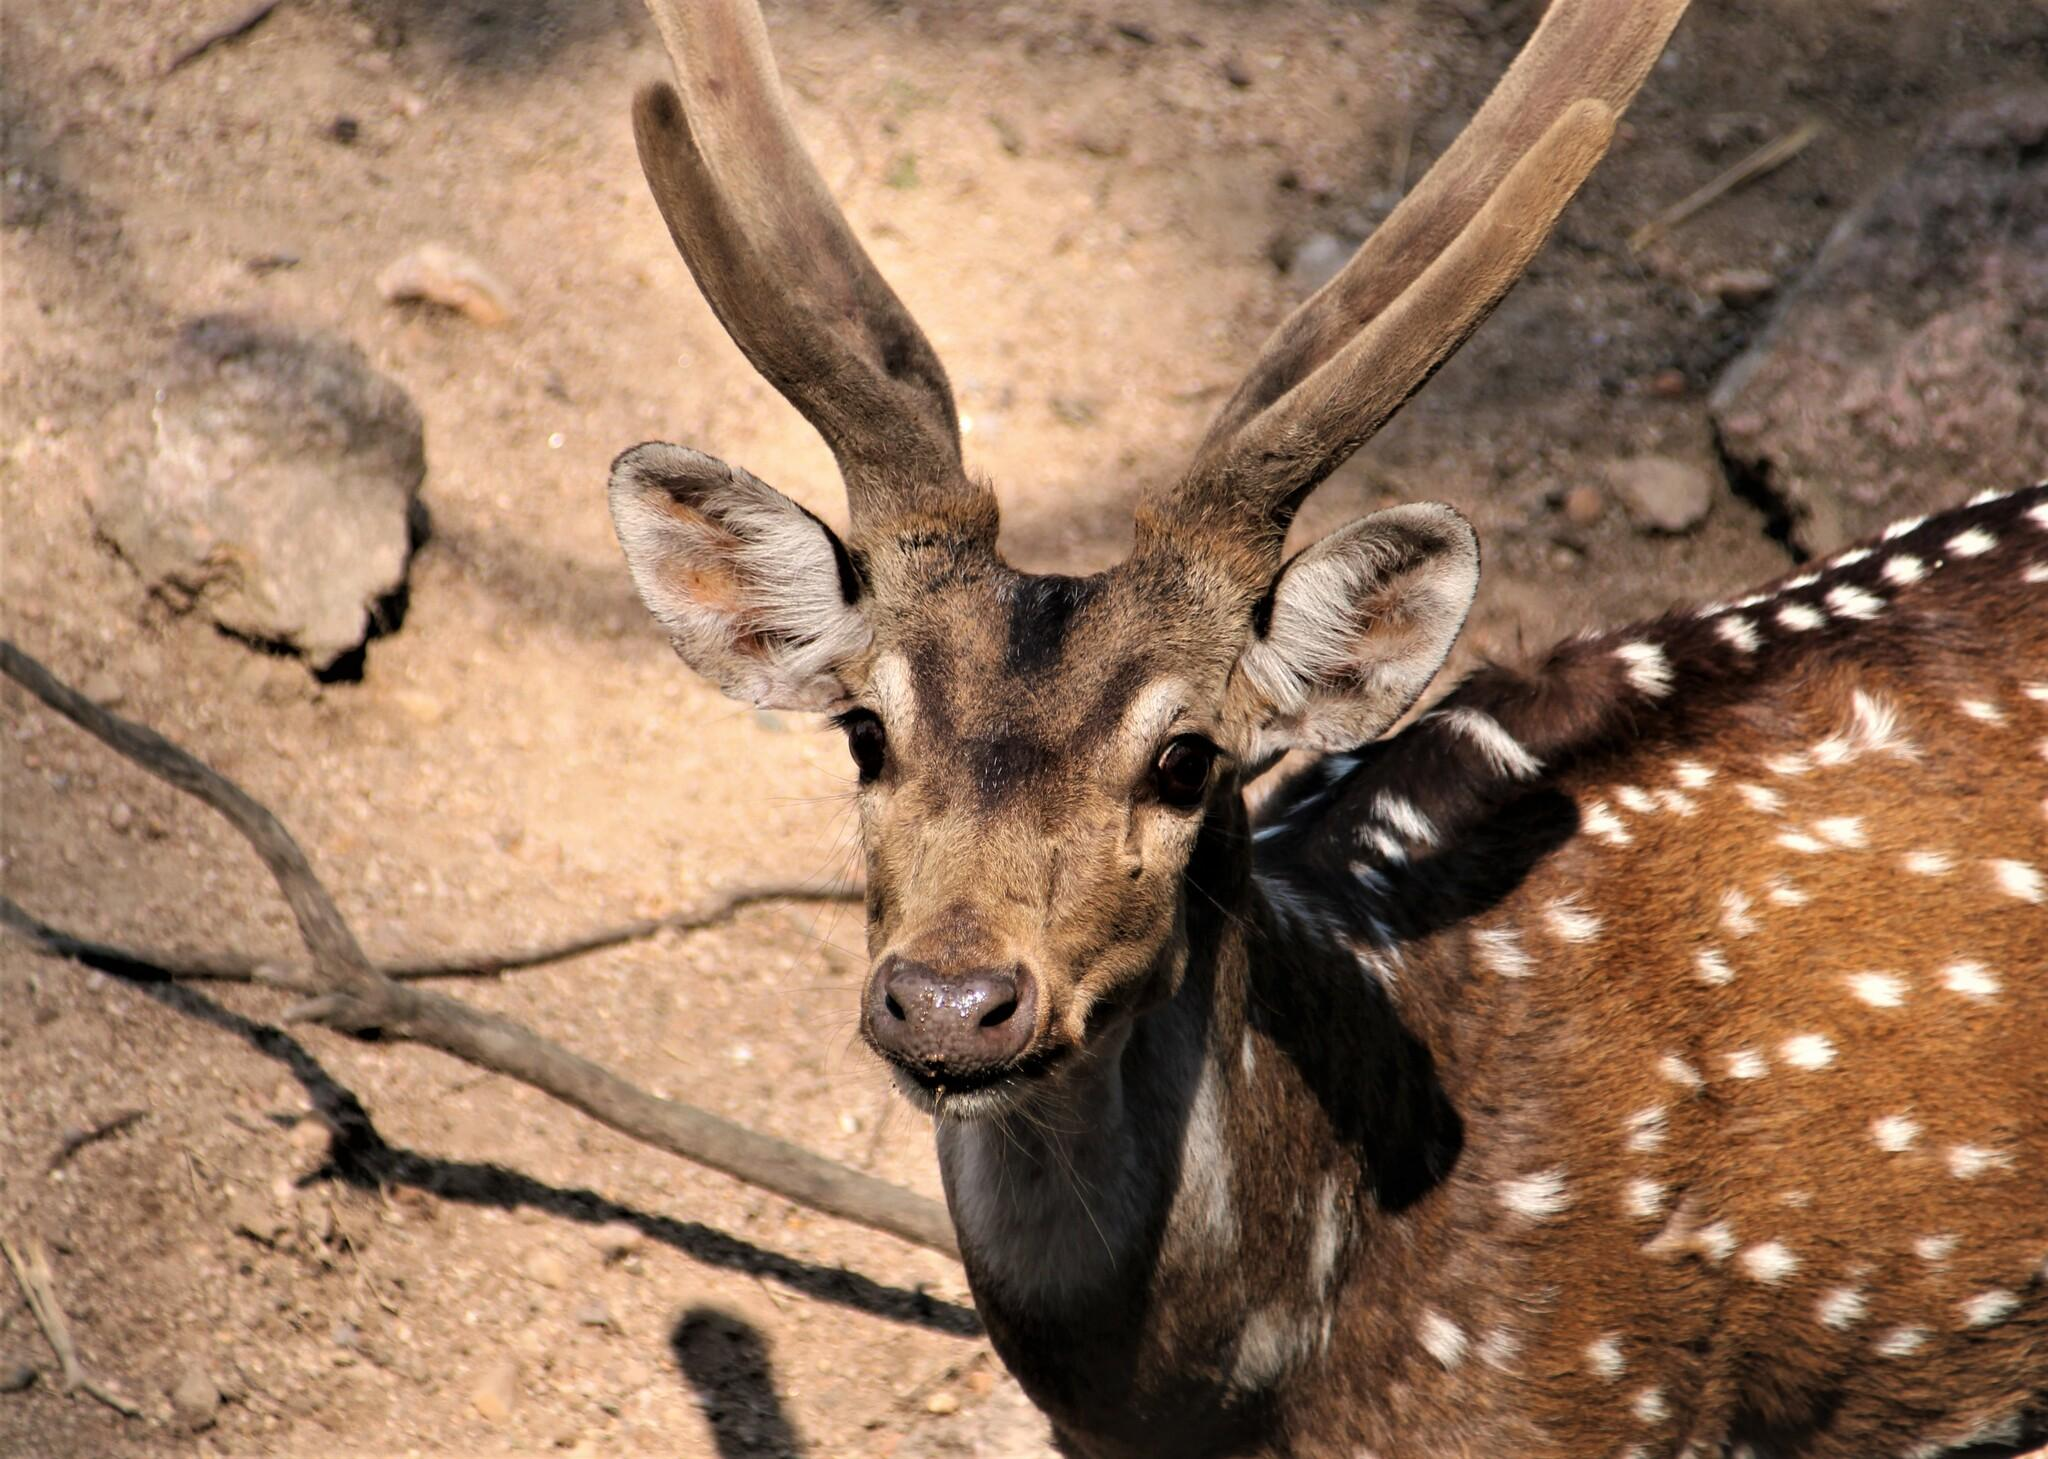Deer: (610, 3, 2046, 1457)
